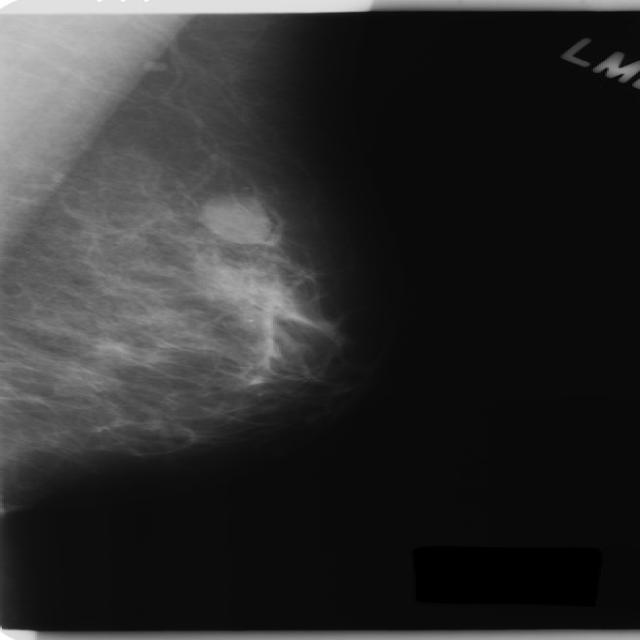tumour: (193, 193, 273, 244)
